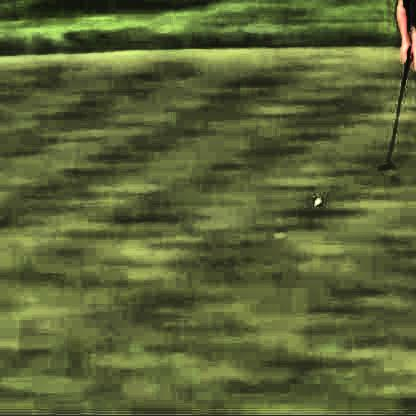golfball: (310, 195, 317, 202)
